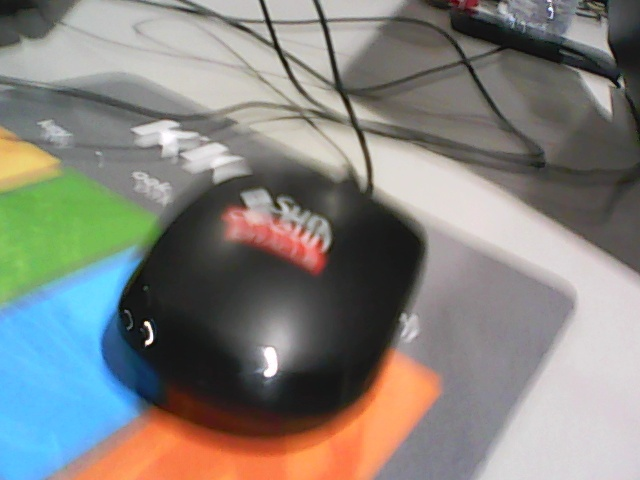mouse: (118, 168, 426, 430)
